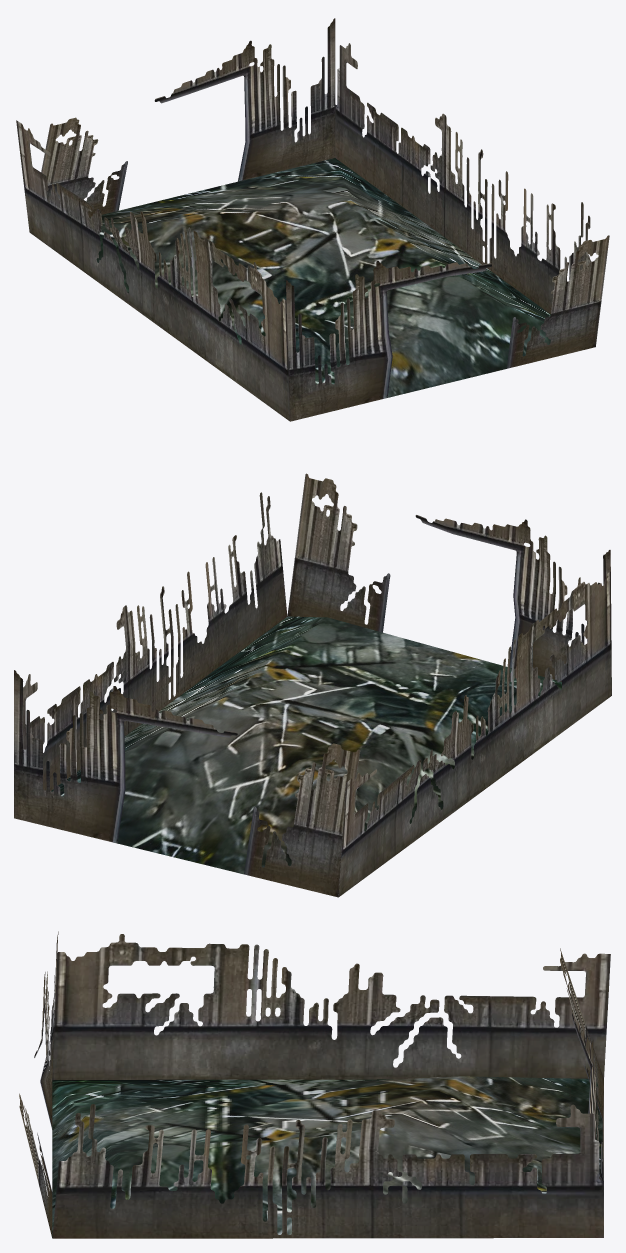
The model's file is civstoragea_dam_hdtex.glb.
3 views of the same model, one above another, from view 1: azimuth 30°, elevation 25°; view 2: azimuth 150°, elevation 25°; view 3: azimuth 270°, elevation 25° (orthographic). The views are drawn at different scales.
Parts seen in each view (by area): view 1: Box01; view 2: Box01; view 3: Box01.
Boxes of the visible parts, bbox=[...] form: Box01: bbox=[16, 18, 609, 421]; Box01: bbox=[14, 473, 611, 897]; Box01: bbox=[19, 931, 610, 1238].
Bounding box in the file's own units: 8.22 × 3.46 × 12.27.
Materials: 2 (2 with a texture image).
